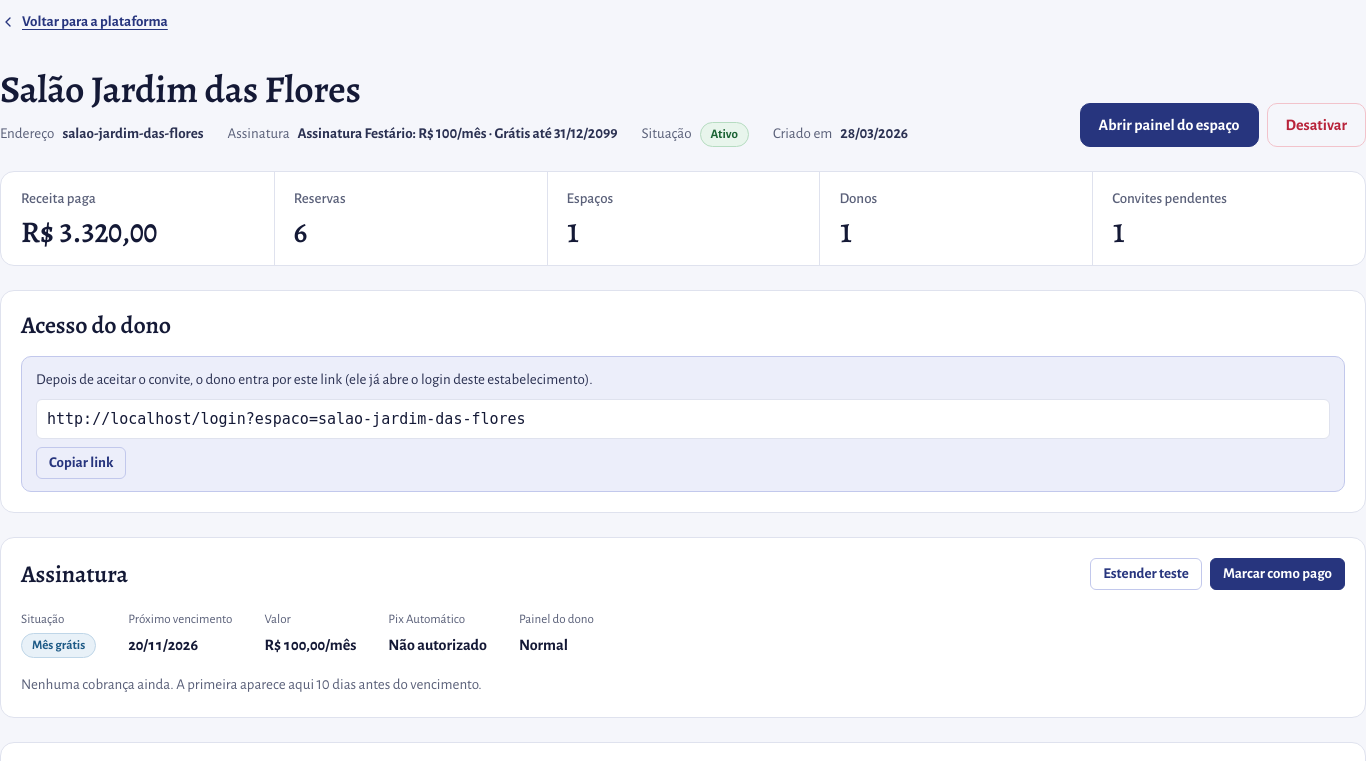
Test: Plataforma: situação da cobrança › detalhe: estende o teste até uma data
Click the button "Estender teste" at [1146, 574], box [1090,558,1202,590]
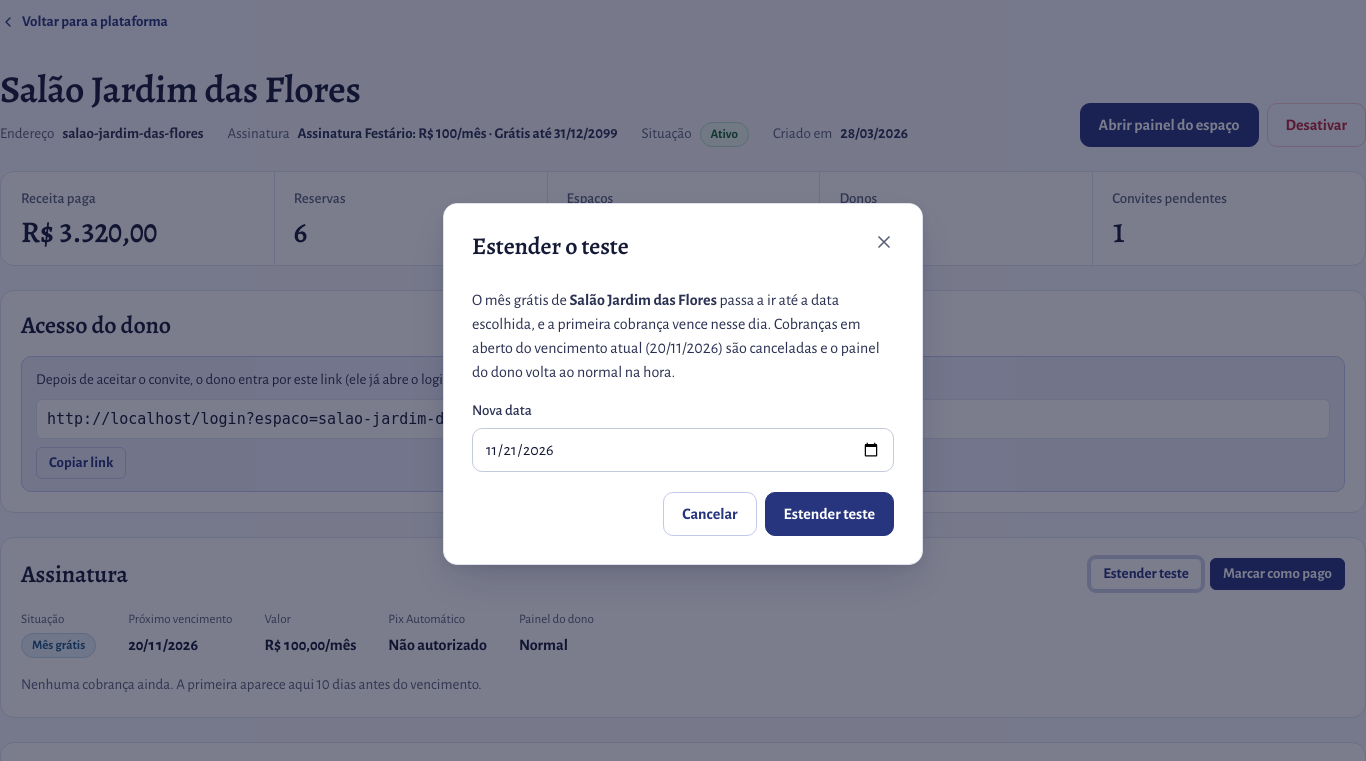
Type "2027-01-15" into the date field labelled "Nova data" at [683, 450], box [472,428,894,472]
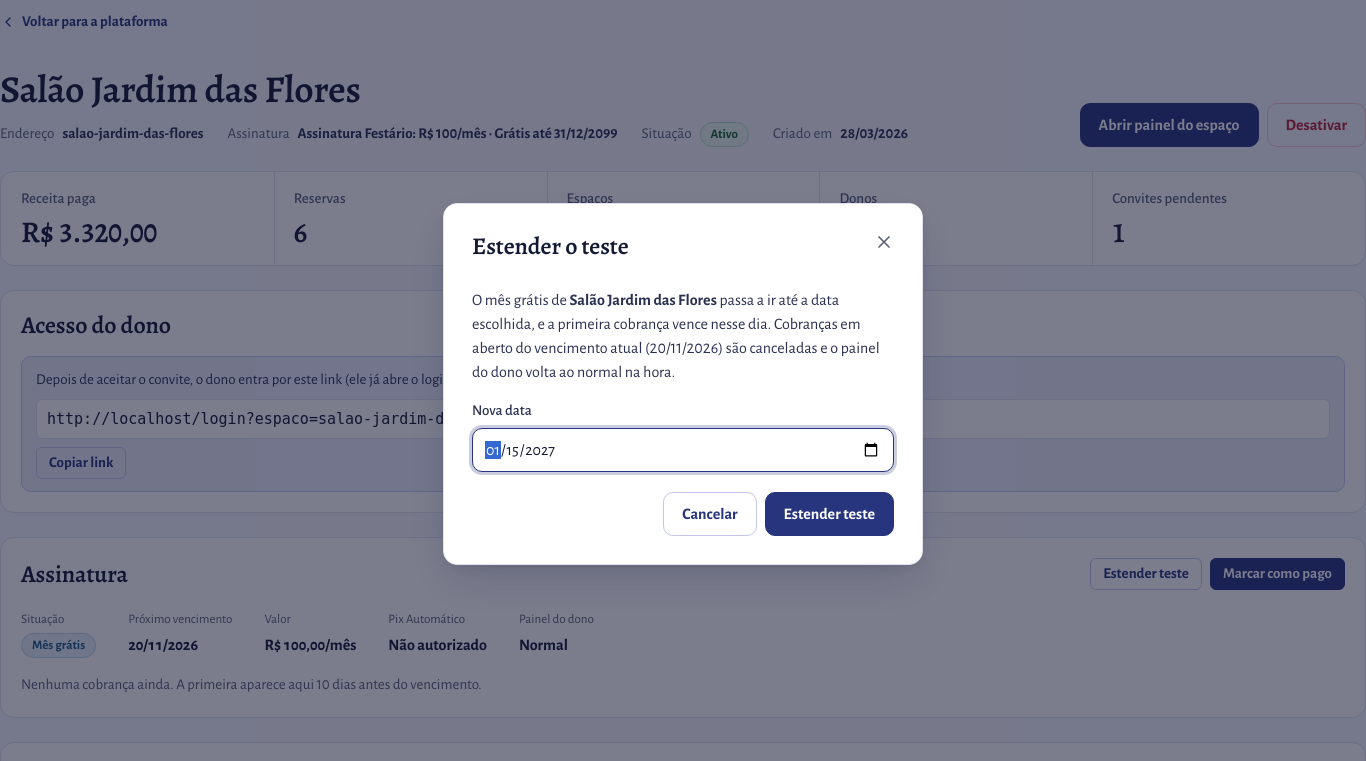
Click the button "Estender teste" at [829, 514], box [765,492,894,536]
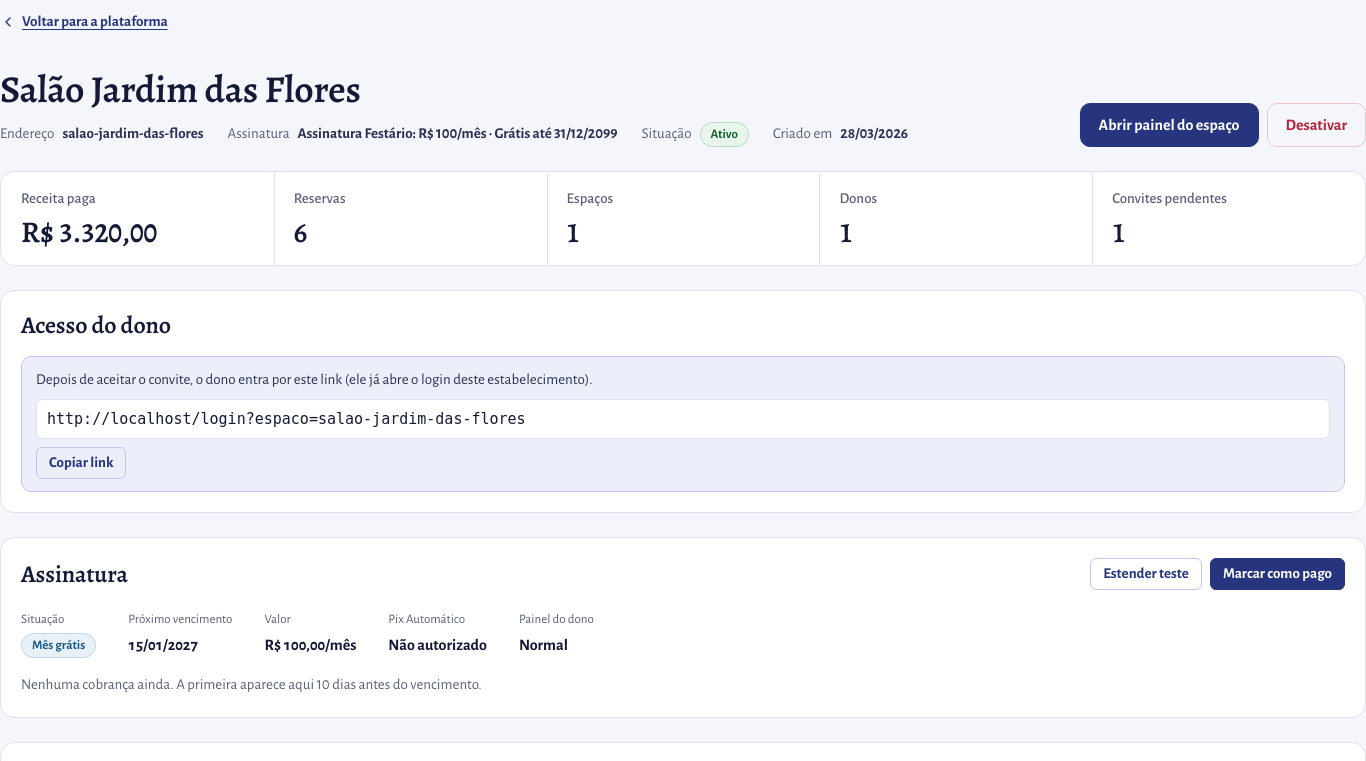
Expected: the text "15/01/2027" is shown, [128,637,198,653]
